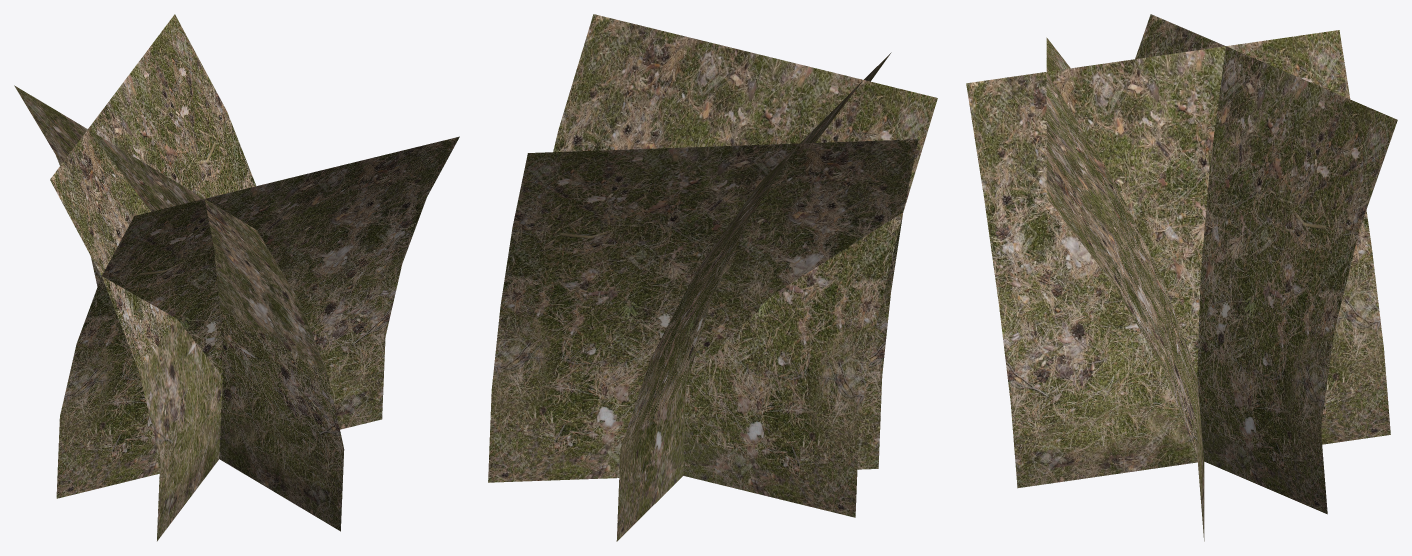
Rendered from Pasto.fbx.
3 views of the same model, side by side, from view 1: azimuth 30°, elevation 25°; view 2: azimuth 150°, elevation 25°; view 3: azimuth 270°, elevation 25° (orthographic). The views are drawn at different scales.
Parts seen in each view (by area): view 1: pPlane4; view 2: pPlane4; view 3: pPlane4.
Boxes of the visible parts, x1,y1,x2,y2 form: pPlane4: (14, 14, 459, 541); pPlane4: (488, 14, 937, 541); pPlane4: (966, 14, 1397, 541).
Bounding box in the file's own units: 1.1 × 1.1 × 1.13.
